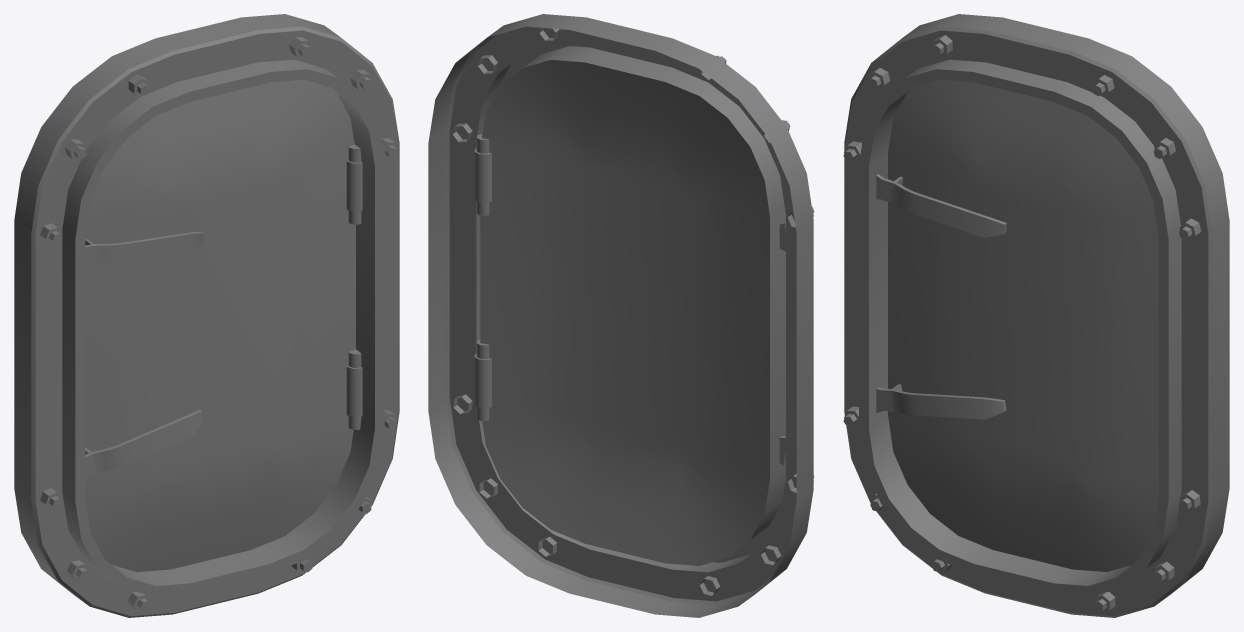
File: tesla_props_hatch_01.dae
The picture shows the model from 3 angles, left to right: view 1: azimuth 30°, elevation 25°; view 2: azimuth 150°, elevation 25°; view 3: azimuth 330°, elevation 25°; orthographic projection.
Visible parts, largest first — view 1: polySurface218; view 2: polySurface218; view 3: polySurface218.
Part boxes in pixels (left/top/right/bottom): polySurface218: left=14, top=14, right=399, bottom=617; polySurface218: left=428, top=14, right=814, bottom=617; polySurface218: left=843, top=14, right=1229, bottom=617.
Size of what is drawn, in the model's own units: 1.32 by 1.92 by 0.1962.
